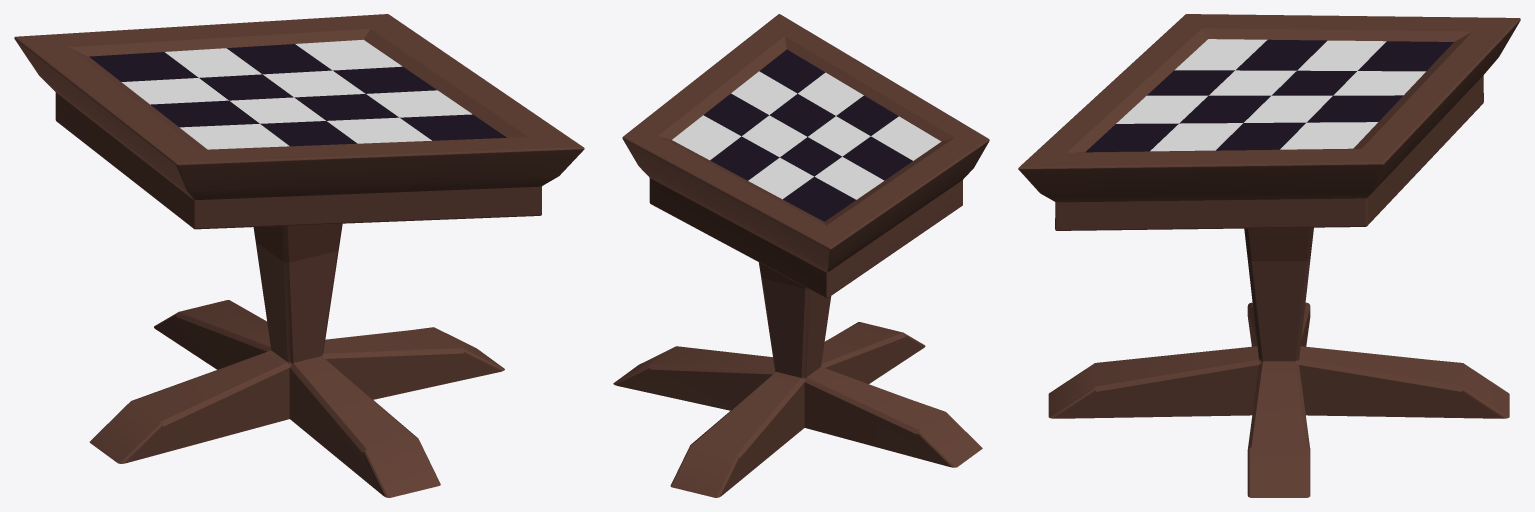
The model's file is schaaktafel_nieuwestijl.fbx.
The picture shows the model from 3 angles, left to right: view 1: azimuth 30°, elevation 25°; view 2: azimuth 150°, elevation 25°; view 3: azimuth 270°, elevation 25°; orthographic projection. The views are drawn at different scales.
Visible parts, largest first — view 1: pCube142; view 2: pCube142; view 3: pCube142.
Part boxes in pixels (x1=…): pCube142: x1=14, y1=14, x2=584, y2=497; pCube142: x1=613, y1=14, x2=989, y2=497; pCube142: x1=1018, y1=14, x2=1520, y2=497.
Size of the model in its own units: 1.78 by 1.4 by 2.04.
